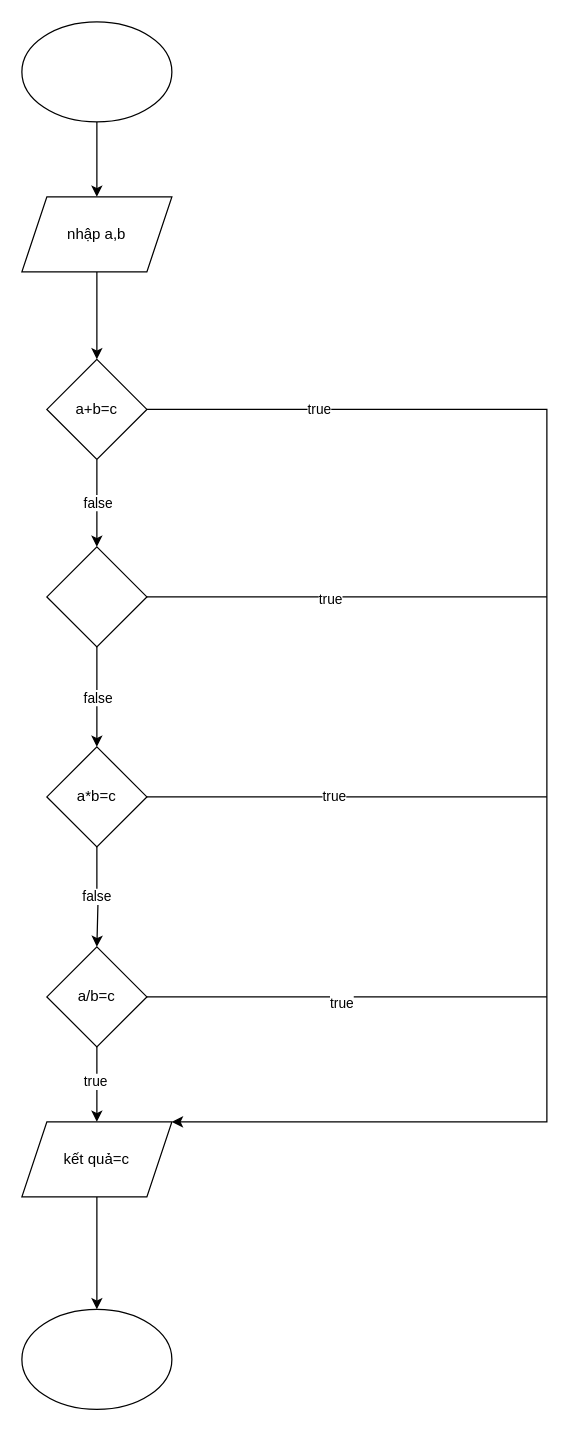
The diagram is 579 pixels wide and 1431 high, and some of its shapes have lost their labels. The shapes that lost their labels are listed below. From the top down, each one's box as (x1, y1, x2, y2) in pixels, then its label:
(21, 21, 172, 122): Start
(46, 546, 147, 647): a-b=c
(21, 1308, 172, 1409): End
